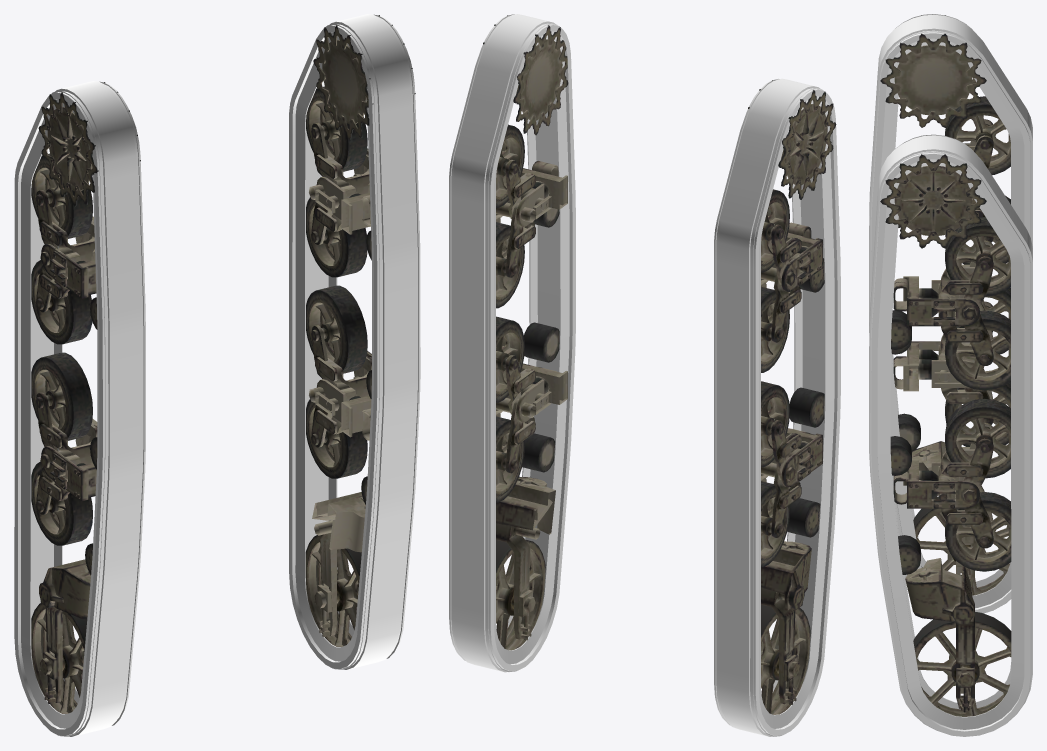
Rendered from Chassis.glb.
3 renders of one model, left to right at view 1: azimuth 30°, elevation 25°; view 2: azimuth 150°, elevation 25°; view 3: azimuth 270°, elevation 25°, orthographic. The views are drawn at different scales.
Parts seen in each view (by area): view 1: set_0_group_0, set_1_group_0, set_2_group_0, set_3_group_0; view 2: set_0_group_0, set_1_group_0, set_3_group_0, set_2_group_0; view 3: set_3_group_0, set_1_group_0, set_2_group_0, set_0_group_0.
Boxes of the visible parts, x1=… form: set_0_group_0: x1=14, y1=81, x2=145, y2=736; set_1_group_0: x1=289, y1=14, x2=420, y2=669; set_2_group_0: x1=31, y1=82, x2=140, y2=713; set_3_group_0: x1=305, y1=15, x2=415, y2=646; set_0_group_0: x1=714, y1=78, x2=840, y2=736; set_1_group_0: x1=449, y1=14, x2=575, y2=672; set_3_group_0: x1=483, y1=15, x2=568, y2=650; set_2_group_0: x1=748, y1=80, x2=836, y2=714; set_3_group_0: x1=880, y1=135, x2=1011, y2=716; set_1_group_0: x1=869, y1=134, x2=1032, y2=736; set_2_group_0: x1=880, y1=15, x2=1010, y2=595; set_0_group_0: x1=869, y1=14, x2=1032, y2=613.
Bounding box in the file's own units: 2.27 × 4.25 × 1.07.
4 materials, 2 textured.
